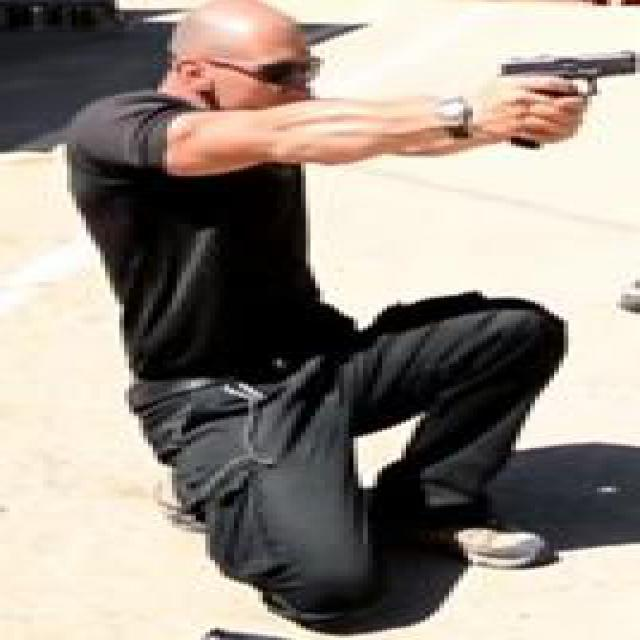Gun: (492, 48, 635, 150)
